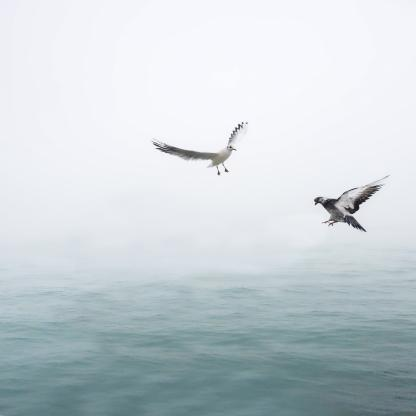bird: (149, 122, 251, 178), (313, 178, 389, 233)
